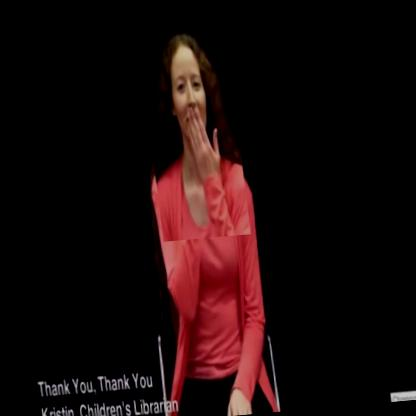ThankYou: (138, 30, 250, 242)
